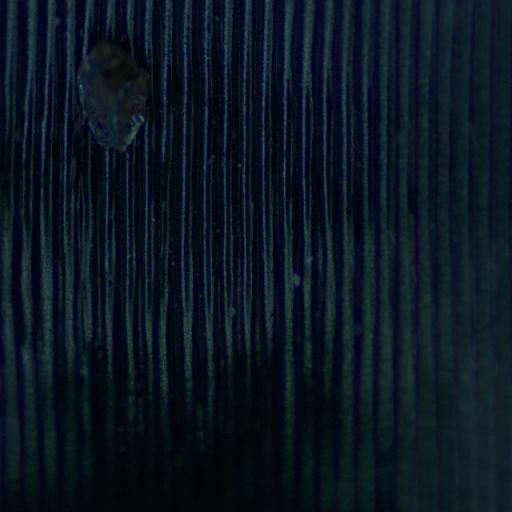mineral: (77, 39, 148, 150)
